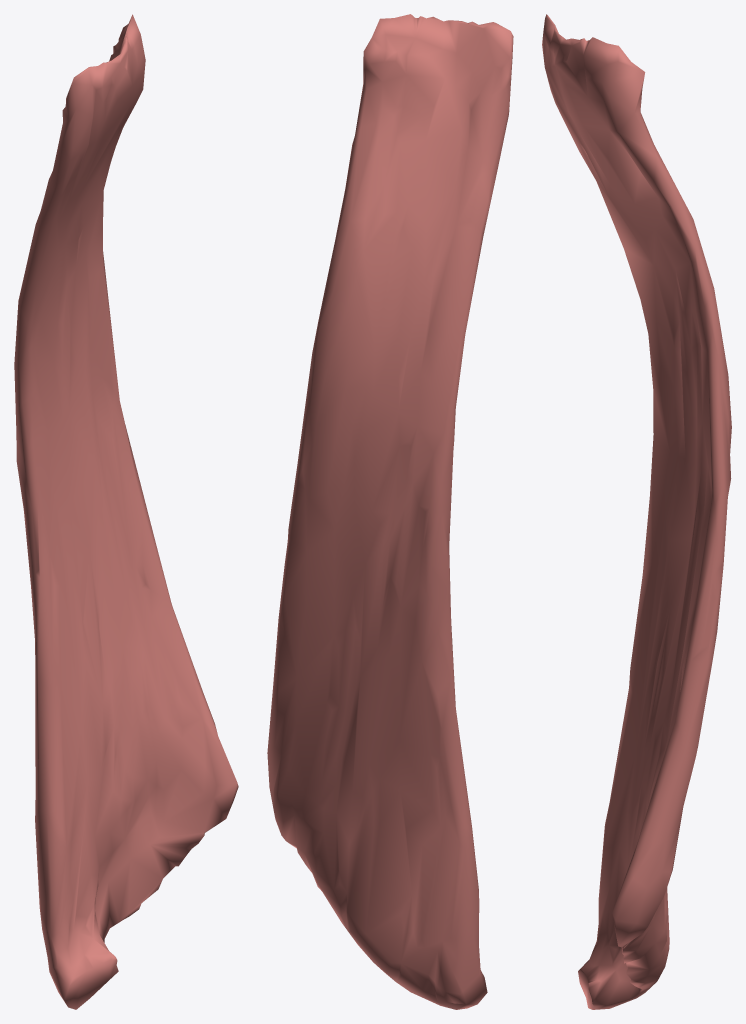
The picture shows the model from 3 angles, left to right: view 1: azimuth 30°, elevation 25°; view 2: azimuth 150°, elevation 25°; view 3: azimuth 270°, elevation 25°; orthographic projection. The views are drawn at different scales.
Parts seen in each view (by area): view 1: ZA_57208c02adad3eff; view 2: ZA_57208c02adad3eff; view 3: ZA_57208c02adad3eff.
Boxes of the visible parts, x1,y1,x2,y2 form: ZA_57208c02adad3eff: [14, 14, 238, 1009]; ZA_57208c02adad3eff: [267, 14, 513, 1009]; ZA_57208c02adad3eff: [542, 14, 731, 1009].
Bounding box in the file's own units: 0.0238 × 0.1081 × 0.0186.
